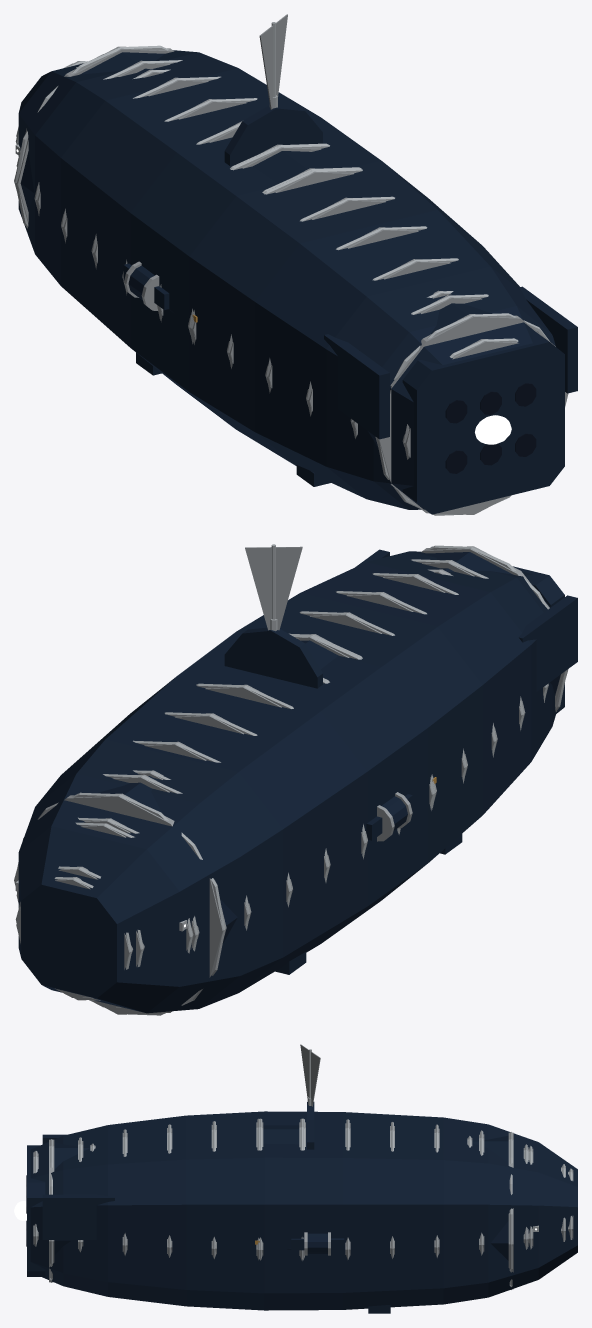
The picture shows the model from 3 angles, top to bottom: view 1: azimuth 30°, elevation 25°; view 2: azimuth 150°, elevation 25°; view 3: azimuth 270°, elevation 25°; orthographic projection. The views are drawn at different scales.
Visible parts, largest first — view 1: RIMWARD_HULL, RIMWARD_ENGINE_GLOW; view 2: RIMWARD_HULL; view 3: RIMWARD_HULL.
Part boxes in pixels (<box>): RIMWARD_HULL: <box>14,14,577,515</box>; RIMWARD_ENGINE_GLOW: <box>475,415,511,444</box>; RIMWARD_HULL: <box>14,544,577,1015</box>; RIMWARD_HULL: <box>26,1044,577,1313</box>.
Bounding box in the file's own units: 6.16 × 8.22 × 17.14.
